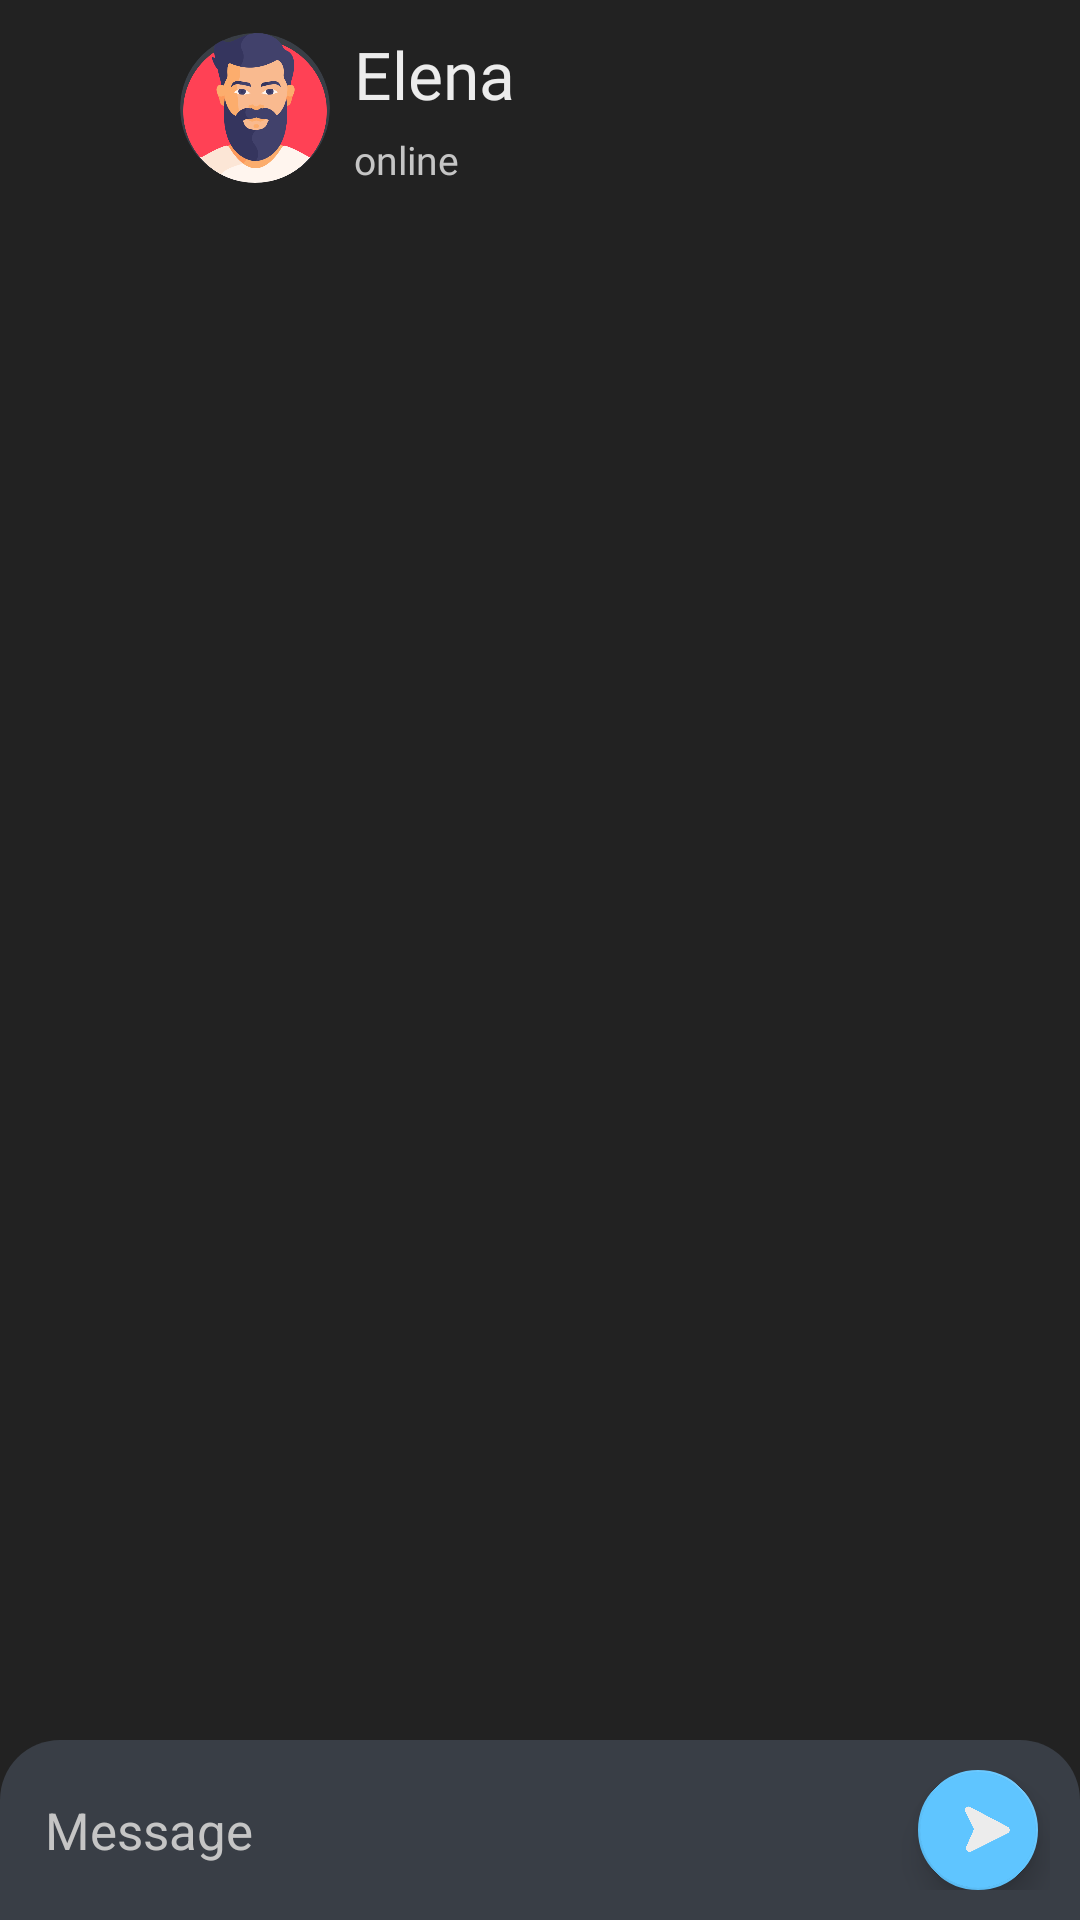

Icon bounding boxes for this 1080×1920 phone screenshot, format (x1, y1, x2, y2):
user profile: (180, 33, 330, 183)
